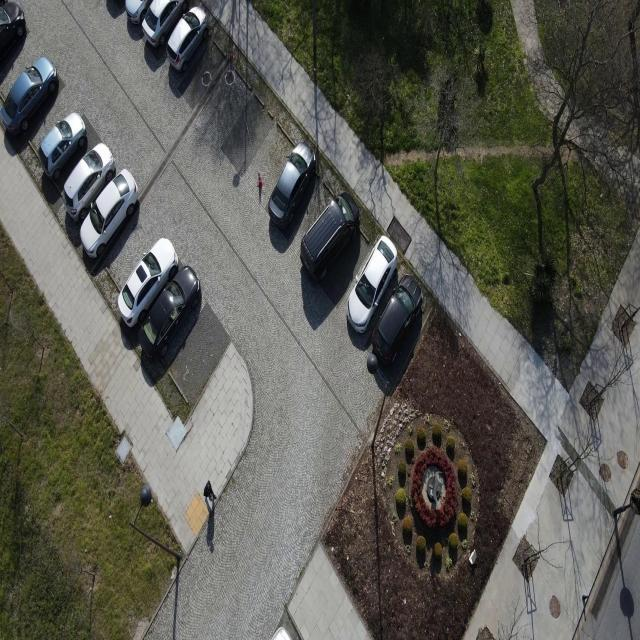p3rson: (204, 480, 216, 501)
